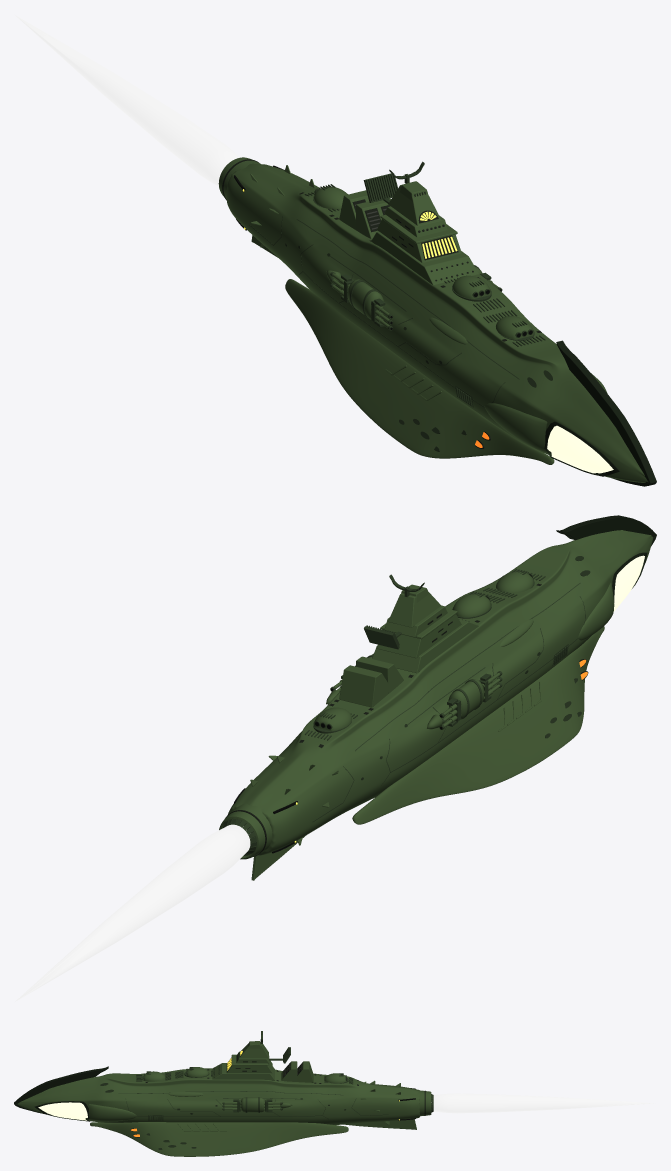
Rendered from destria.glb.
The picture shows the model from 3 angles, top to bottom: view 1: azimuth 30°, elevation 25°; view 2: azimuth 150°, elevation 25°; view 3: azimuth 270°, elevation 25°; orthographic projection. The views are drawn at different scales.
Visible parts, largest first — view 1: HullMain, Fin_S, EngineJet, BowBlade, BridgeTierA, Eye_S, Cowl_S, Launcher, BridgeHead, BridgeTierB, BridgeDark, Rack (+2 smaller); view 2: HullMain, Fin_S, EngineJet, Launcher, BridgeTierA, BowBlade, BridgeTierB, BridgeHead, NozzleCollar, Cowl_S, Eye_S, T2_Dome; view 3: HullMain, Fin_P, EngineJet, BowBlade, Eye_P, Cowl_P, BridgeTierA, Launcher, KeelBlade, BridgeTierB, SideGrooves, BridgeHead (+7 smaller).
Boxes of the visible parts, left/top/right/bottom form: HullMain: left=226, top=163, right=647, bottom=482; Fin_S: left=285, top=279, right=554, bottom=464; EngineJet: left=15, top=15, right=239, bottom=186; BowBlade: left=556, top=340, right=656, bottom=486; BridgeTierA: left=371, top=231, right=478, bottom=285; Eye_S: left=547, top=425, right=613, bottom=473; Cowl_S: left=484, top=403, right=547, bottom=452; Launcher: left=339, top=190, right=391, bottom=238; BridgeHead: left=388, top=185, right=441, bottom=225; BridgeTierB: left=377, top=219, right=461, bottom=262; BridgeDark: left=392, top=192, right=473, bottom=281; Rack: left=363, top=173, right=397, bottom=202; HullMain: left=228, top=530, right=652, bottom=855; Fin_S: left=352, top=626, right=604, bottom=824; EngineJet: left=15, top=824, right=250, bottom=1001; Launcher: left=339, top=656, right=403, bottom=707; BridgeTierA: left=372, top=619, right=478, bottom=673; BowBlade: left=556, top=515, right=656, bottom=546; BridgeTierB: left=376, top=614, right=461, bottom=658; BridgeHead: left=388, top=592, right=441, bottom=627; NozzleCollar: left=219, top=803, right=272, bottom=859; Cowl_S: left=578, top=583, right=614, bottom=640; Eye_S: left=613, top=555, right=644, bottom=611; T2_Dome: left=452, top=593, right=490, bottom=617; HullMain: left=17, top=1068, right=419, bottom=1125; Fin_P: left=90, top=1122, right=348, bottom=1156; EngineJet: left=431, top=1093, right=654, bottom=1113; BowBlade: left=14, top=1066, right=108, bottom=1113; Eye_P: left=38, top=1102, right=87, bottom=1120; Cowl_P: left=89, top=1104, right=136, bottom=1121; BridgeTierA: left=212, top=1063, right=274, bottom=1080; Launcher: left=281, top=1061, right=313, bottom=1082; KeelBlade: left=343, top=1119, right=416, bottom=1129; BridgeTierB: left=226, top=1057, right=272, bottom=1073; SideGrooves: left=125, top=1098, right=388, bottom=1120; BridgeHead: left=239, top=1042, right=268, bottom=1058.
Bounding box in the file's own units: 5.85 × 6.99 × 40.
